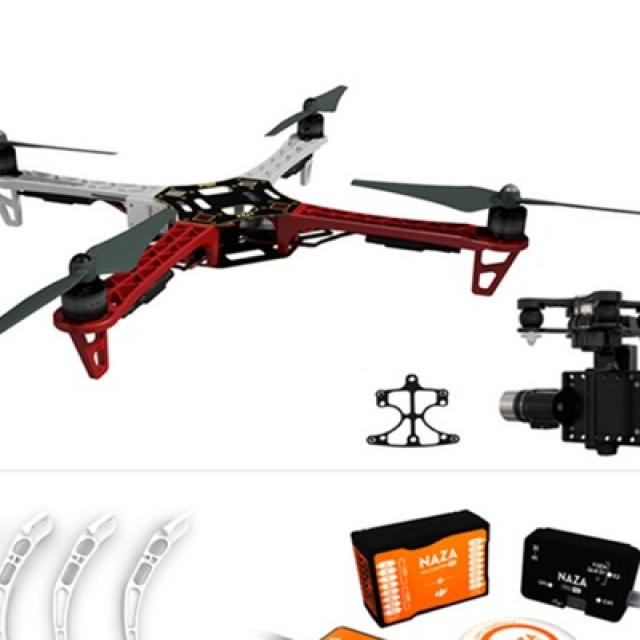drone: (0, 83, 640, 400)
